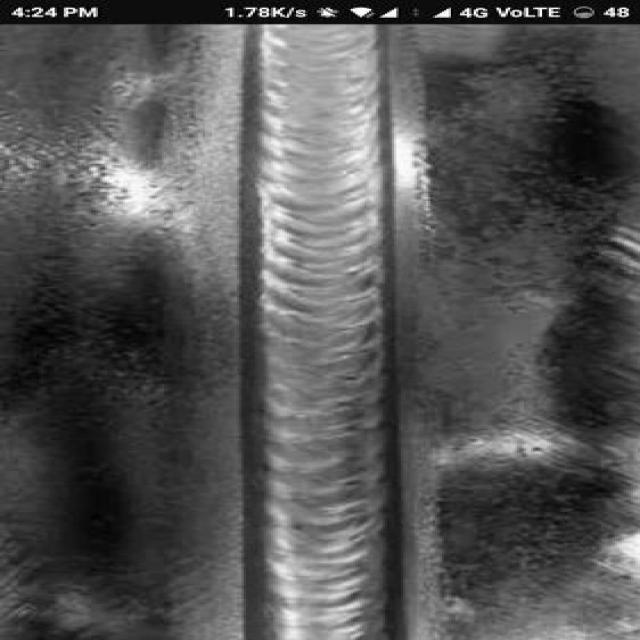Good Welding: (242, 23, 404, 639)
